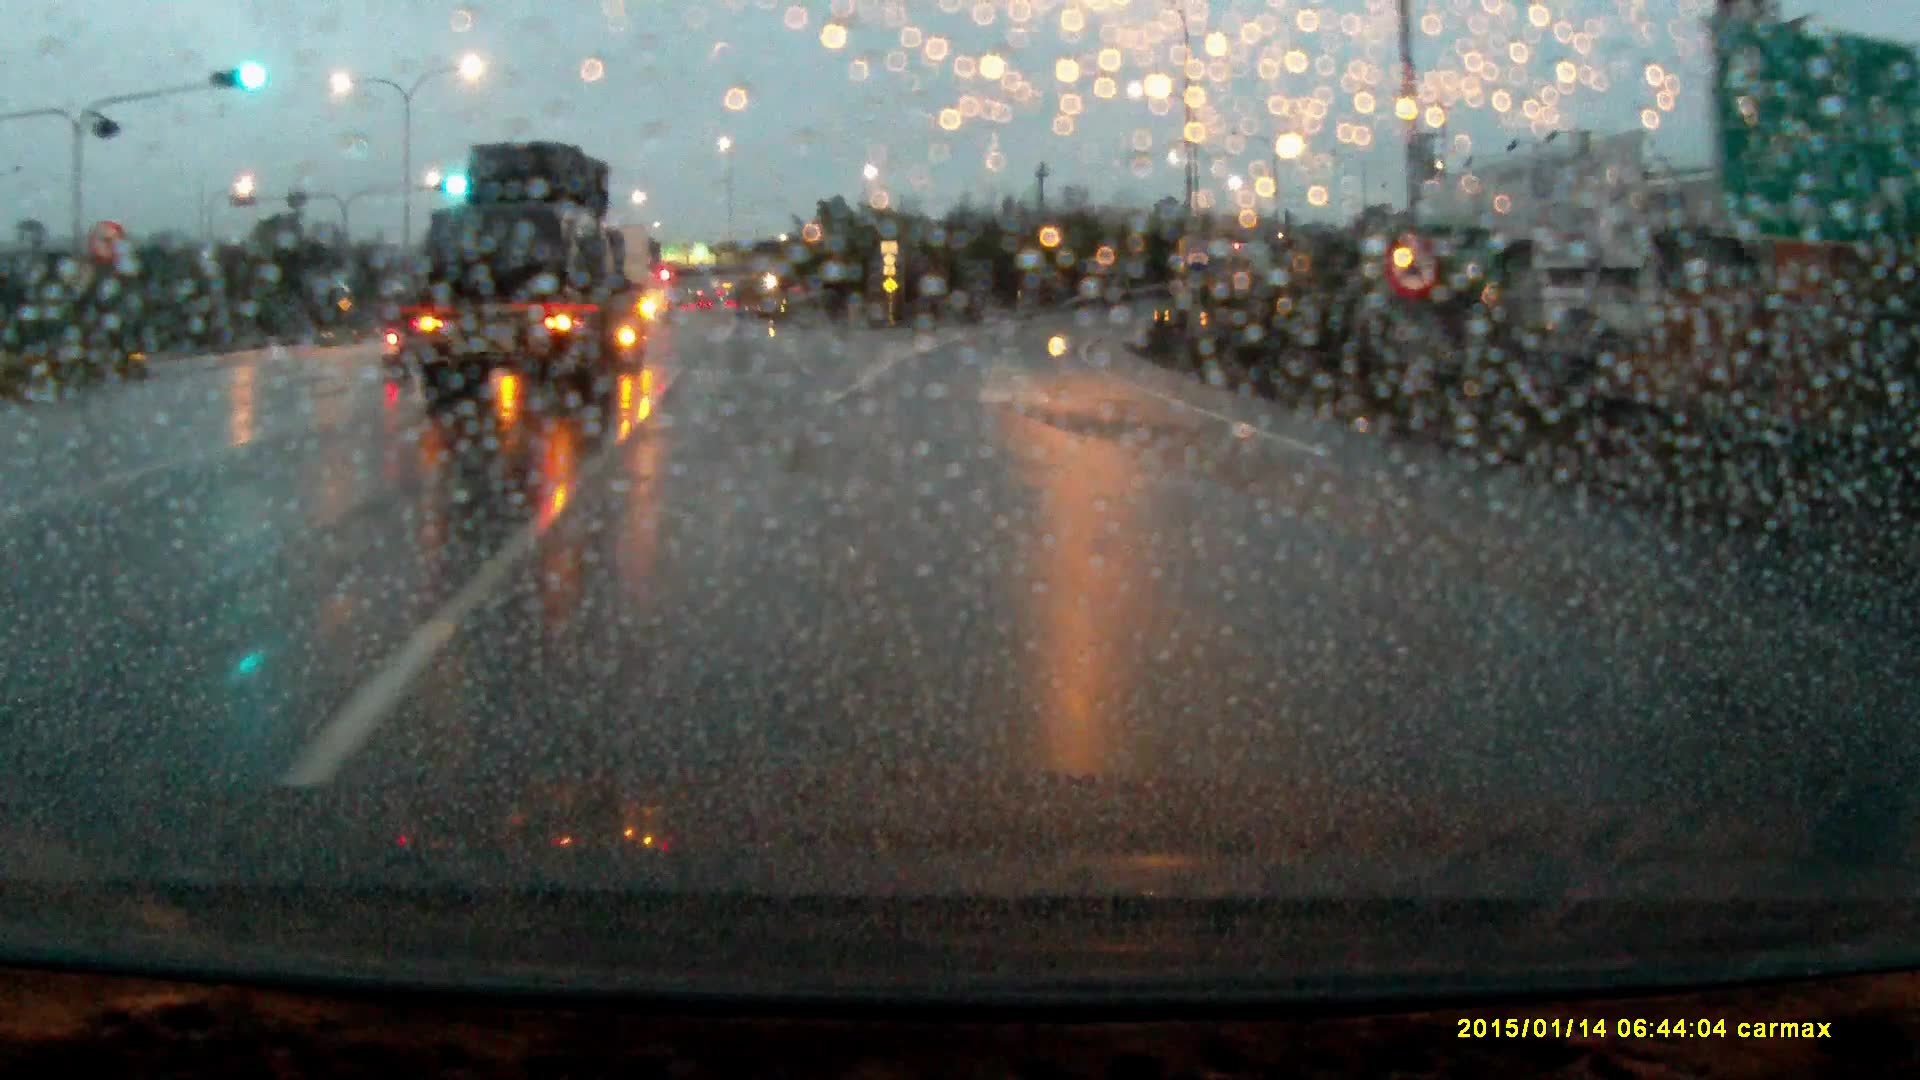rider: (375, 286, 425, 387)
vehicle: (413, 143, 652, 423)
